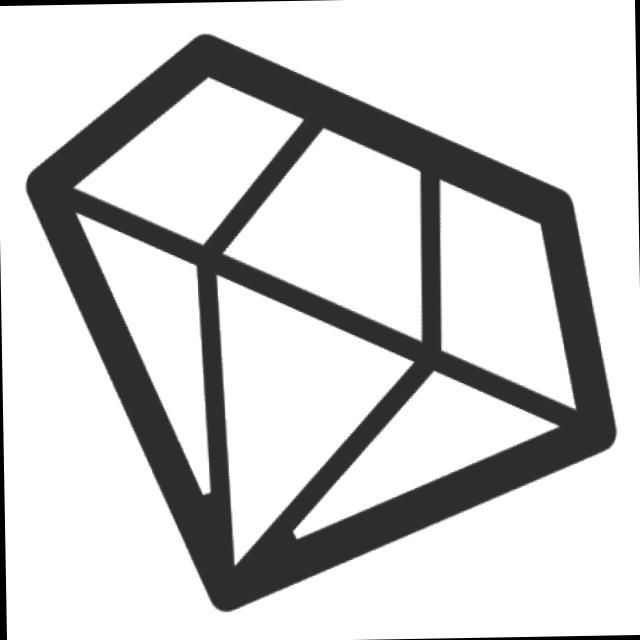diamond: (8, 15, 633, 627)
